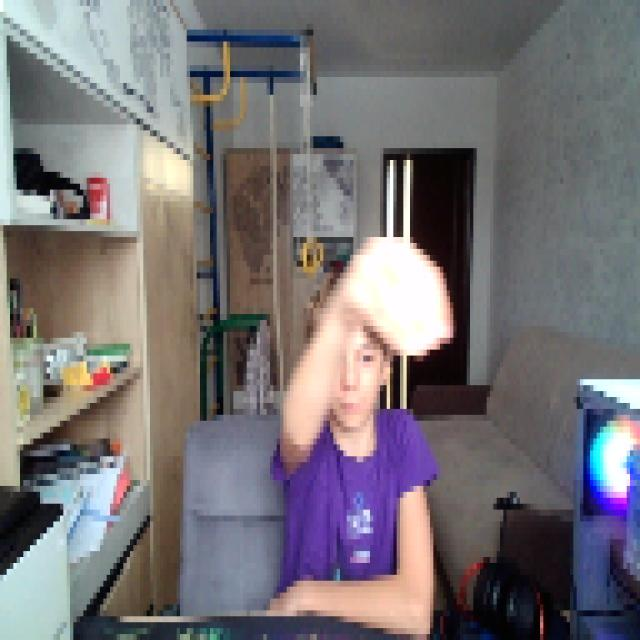left_click: (340, 225, 453, 356)
